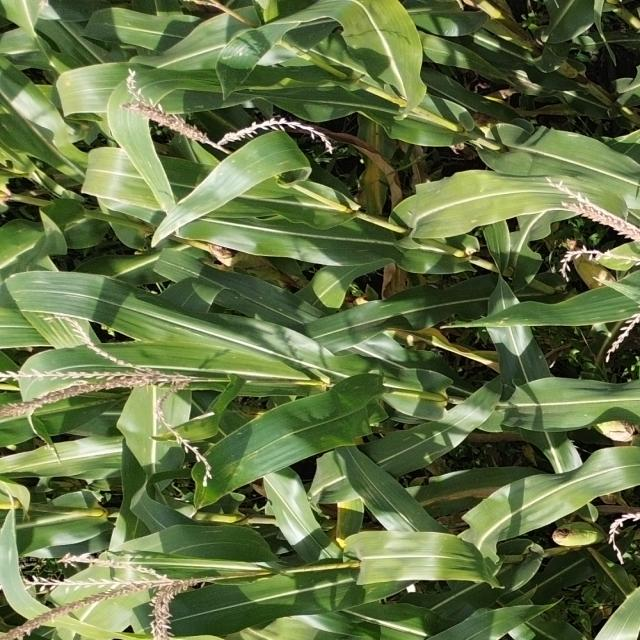southern-leaf-blight: (201, 443, 258, 488), (221, 34, 273, 73), (218, 153, 282, 181)
